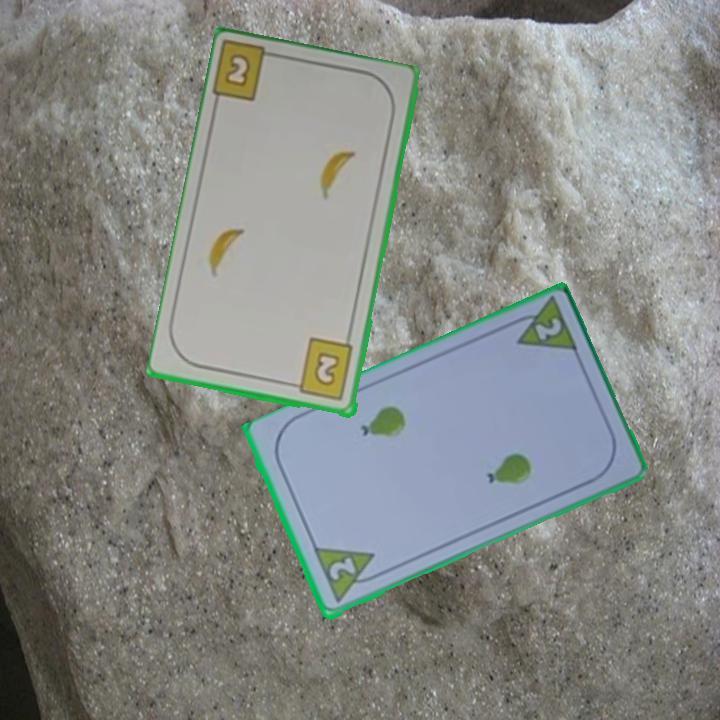2b: (287, 335, 357, 404), (221, 50, 254, 91)
2p: (310, 544, 385, 607), (530, 314, 565, 344)
